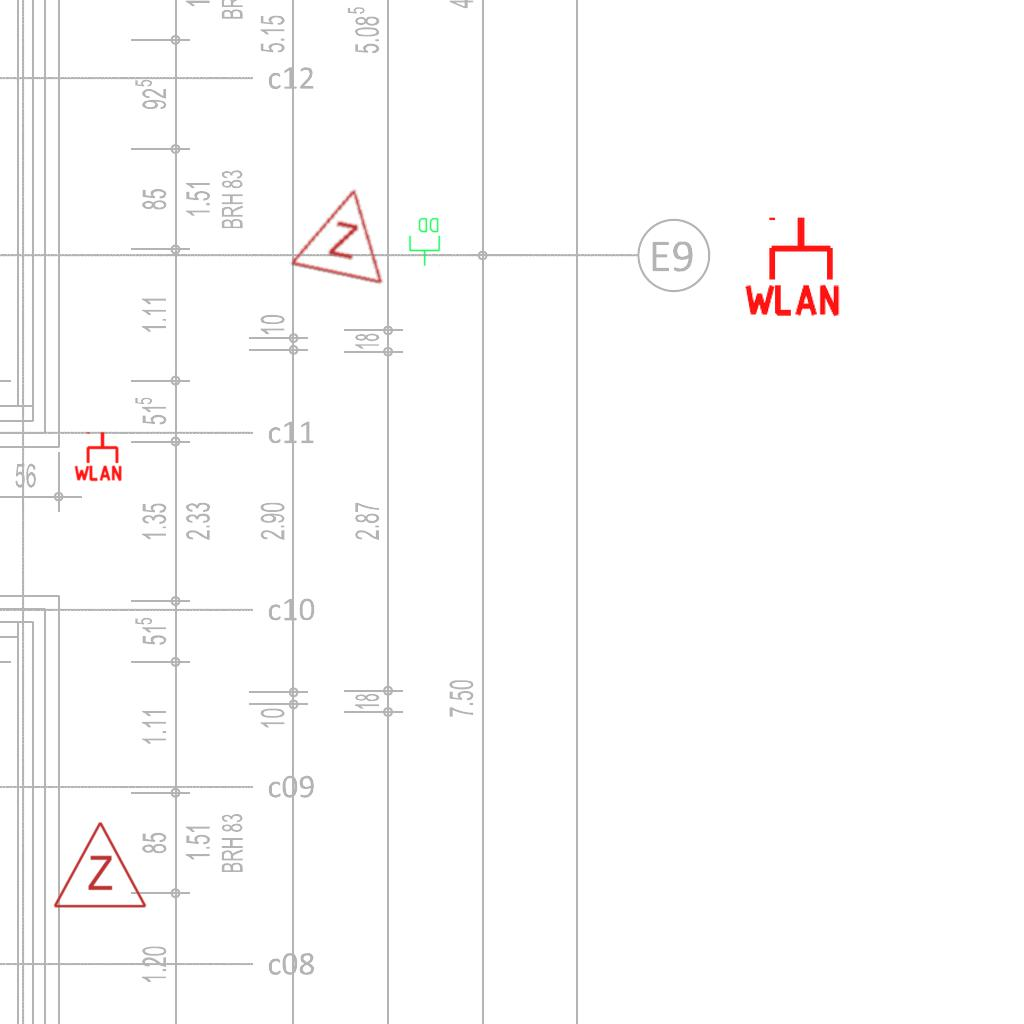Datenanschluss_zweifach: (408, 216, 442, 267)
WLAN: (740, 213, 844, 318), (72, 430, 124, 482)
Zimmersignalleuchte: (285, 172, 403, 292), (50, 815, 148, 915)
